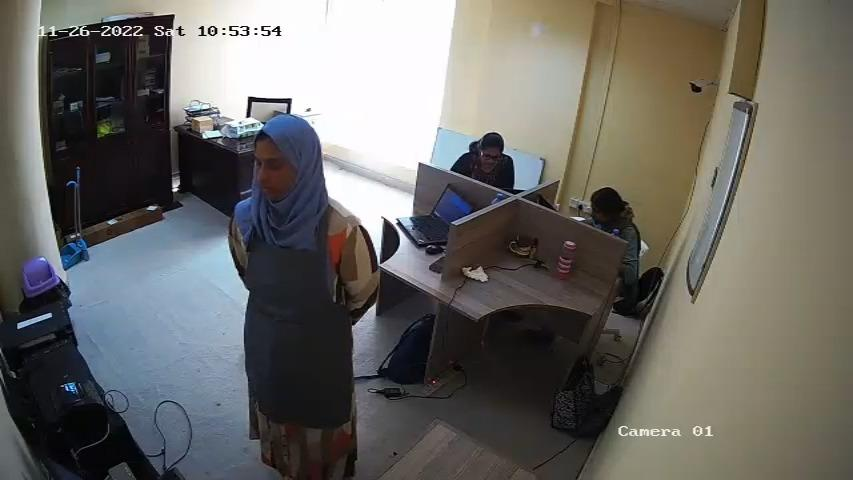apron: (237, 211, 352, 433)
